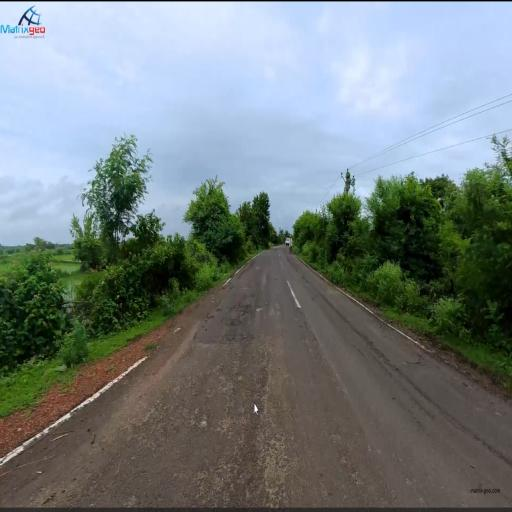ravelling: (192, 350, 315, 484)
